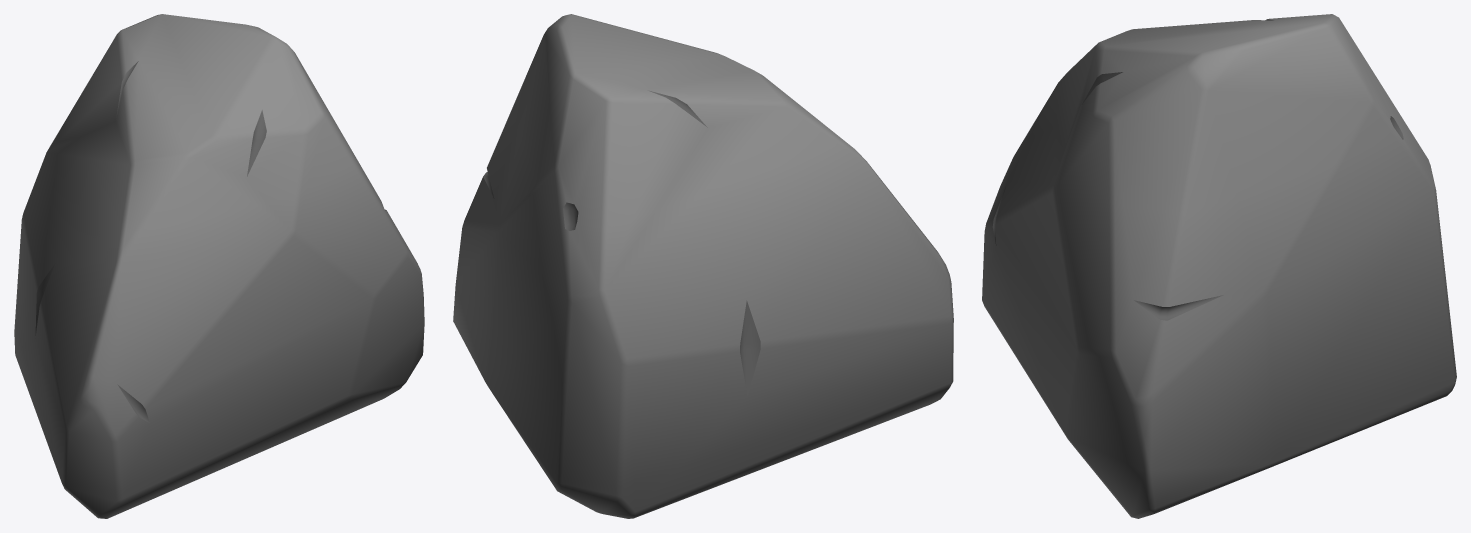
File: Rock05.fbx
3 views of the same model, side by side, from view 1: azimuth 30°, elevation 25°; view 2: azimuth 150°, elevation 25°; view 3: azimuth 270°, elevation 25° (orthographic). The views are drawn at different scales.
Visible parts, largest first — view 1: LOD0; view 2: LOD0; view 3: LOD0.
Boxes of the visible parts, x1,y1,x2,y2 form: LOD0: [14, 14, 424, 518]; LOD0: [453, 14, 953, 518]; LOD0: [982, 14, 1456, 518].
Size of what is drawn, in the model's own units: 465 by 402 by 395.
